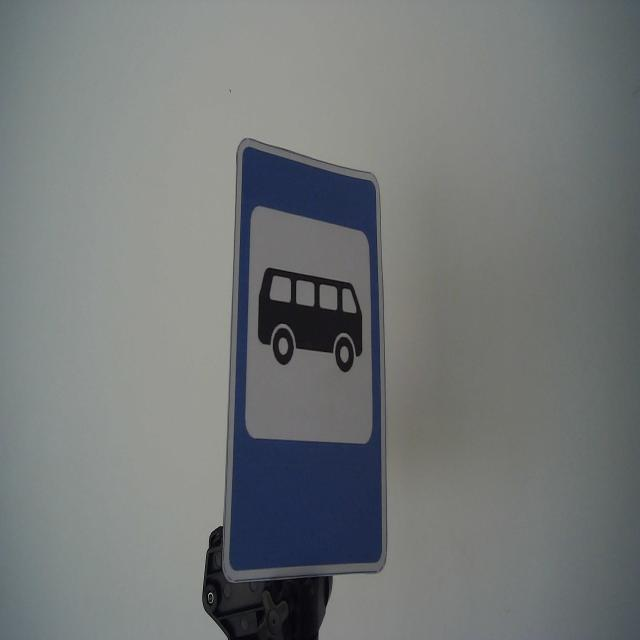bus_stop: (220, 134, 390, 587)
